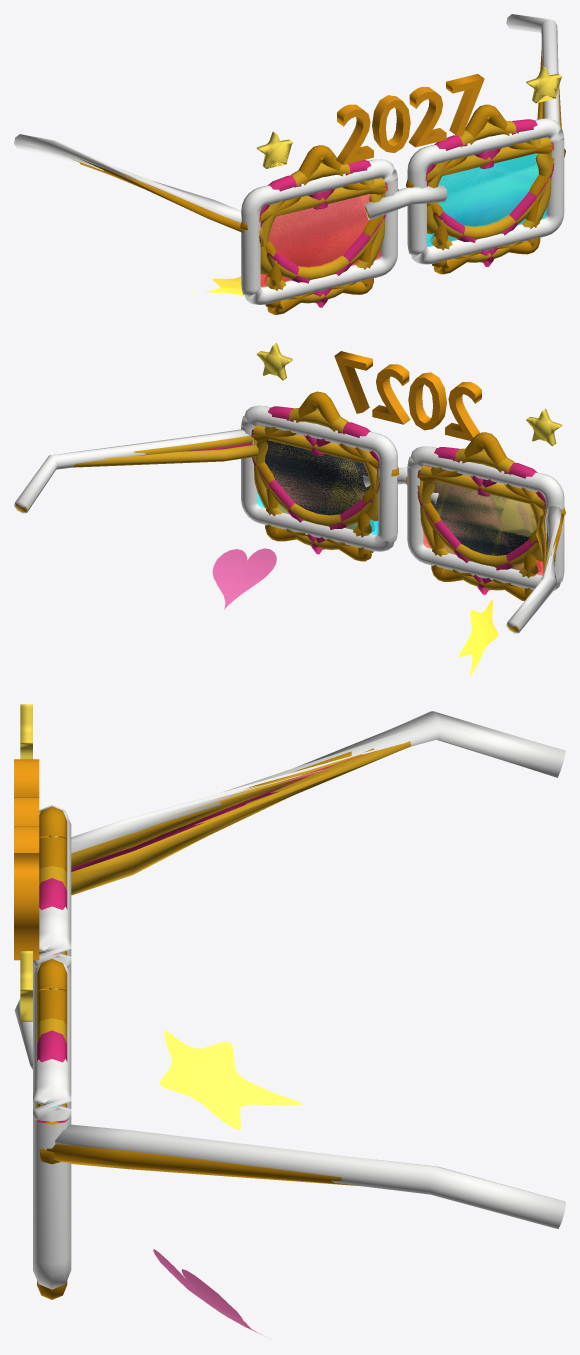
Rendered from props-e.glb.
3 renders of one model, top to bottom at view 1: azimuth 30°, elevation 25°; view 2: azimuth 150°, elevation 25°; view 3: azimuth 270°, elevation 25°, orthographic. The views are drawn at different scales.
Visible parts, largest first — view 1: e-3d, e-2027, e-sun, e-star, e-heart, e-sticker; view 2: e-2027, e-3d, e-sun, e-star, e-heart, e-sticker, e-round; view 3: e-3d, e-2027, e-star, e-sticker, e-sun, e-heart.
Part boxes in pixels (x1=…): e-3d: x1=14, y1=14, x2=564, y2=304; e-2027: x1=257, y1=46, x2=561, y2=303; e-sun: x1=125, y1=101, x2=554, y2=279; e-star: x1=74, y1=86, x2=565, y2=314; e-heart: x1=259, y1=119, x2=554, y2=307; e-sticker: x1=203, y1=276, x2=244, y2=296; e-2027: x1=15, y1=343, x2=562, y2=632; e-3d: x1=14, y1=405, x2=564, y2=633; e-sun: x1=134, y1=425, x2=551, y2=571; e-star: x1=251, y1=391, x2=565, y2=601; e-heart: x1=188, y1=406, x2=549, y2=594; e-sticker: x1=212, y1=548, x2=498, y2=675; e-round: x1=278, y1=475, x2=536, y2=560; e-3d: x1=14, y1=711, x2=565, y2=1289; e-2027: x1=14, y1=704, x2=414, y2=1185; e-star: x1=37, y1=806, x2=349, y2=1299; e-sticker: x1=153, y1=1030, x2=301, y2=1339; e-sun: x1=37, y1=751, x2=362, y2=1122; e-heart: x1=37, y1=750, x2=376, y2=1122.
Bounding box in the file's own units: 0.4354 × 0.1806 × 0.2174.
